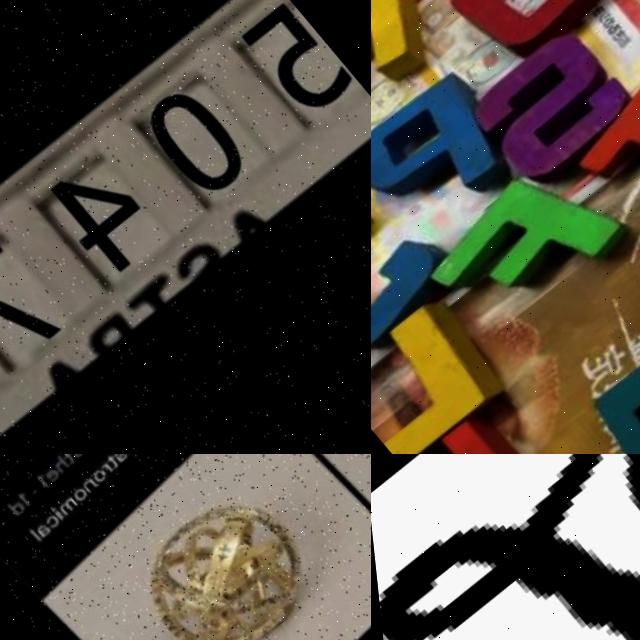0: (103, 52, 282, 224)
1: (8, 488, 26, 507), (27, 472, 44, 489)
4: (8, 127, 187, 299)
5: (210, 0, 365, 141)
7: (0, 211, 89, 385)
F: (396, 153, 631, 358)
I: (551, 42, 640, 244)
J: (371, 206, 449, 382)
L: (371, 287, 513, 454)
M: (553, 315, 640, 454)
O: (426, 0, 624, 71)
P: (371, 67, 521, 242)
R: (371, 0, 459, 136)
S: (452, 23, 640, 195)
T: (371, 454, 640, 640)
